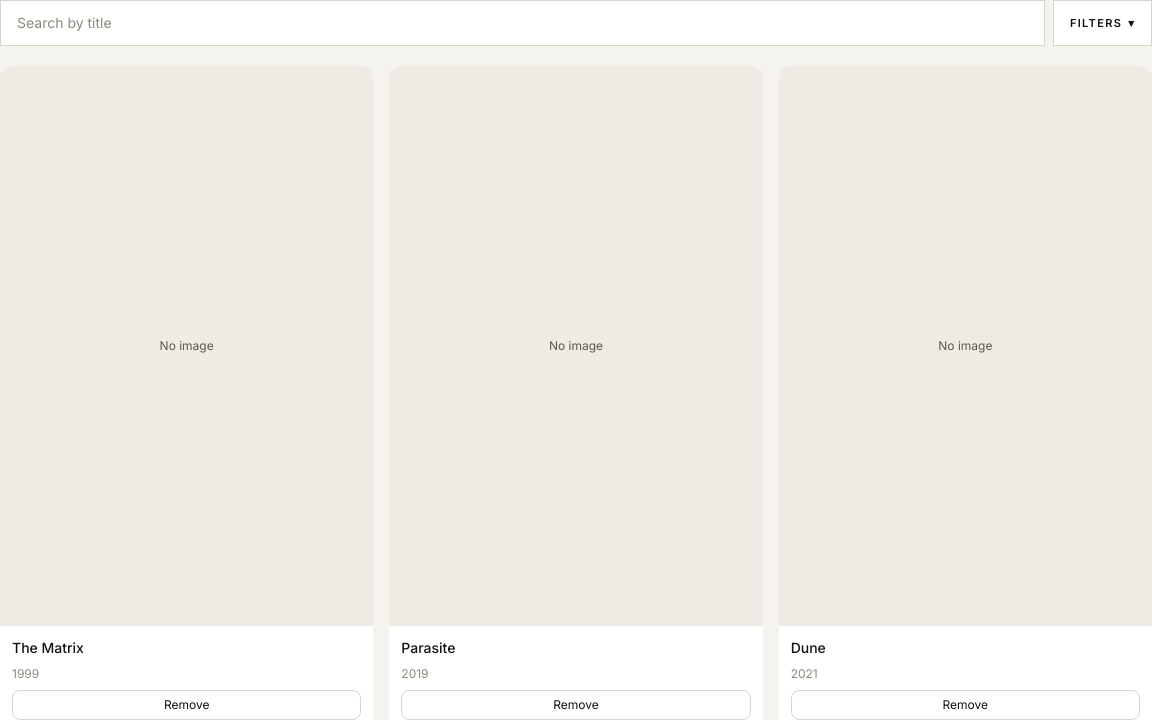
Test case: MovieListClient › search narrows the list by title
Check: the text "The Matrix" is shown, box [12,639,84,656]
Step 1. Type "para" into the field labelled "Search by title" → (522, 23), box [0,0,1045,46]
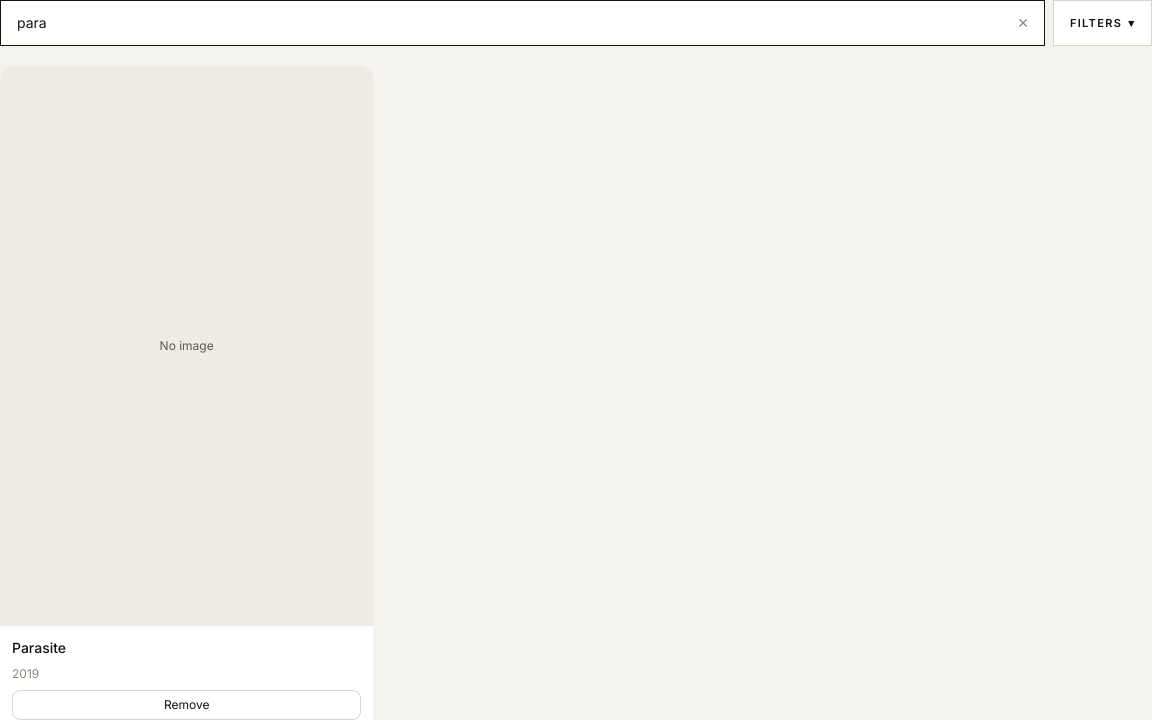
Check: the text "Parasite" is shown, box [12,639,66,656]
Check: the text "The Matrix" is gone
Check: the text "Dune" is gone
